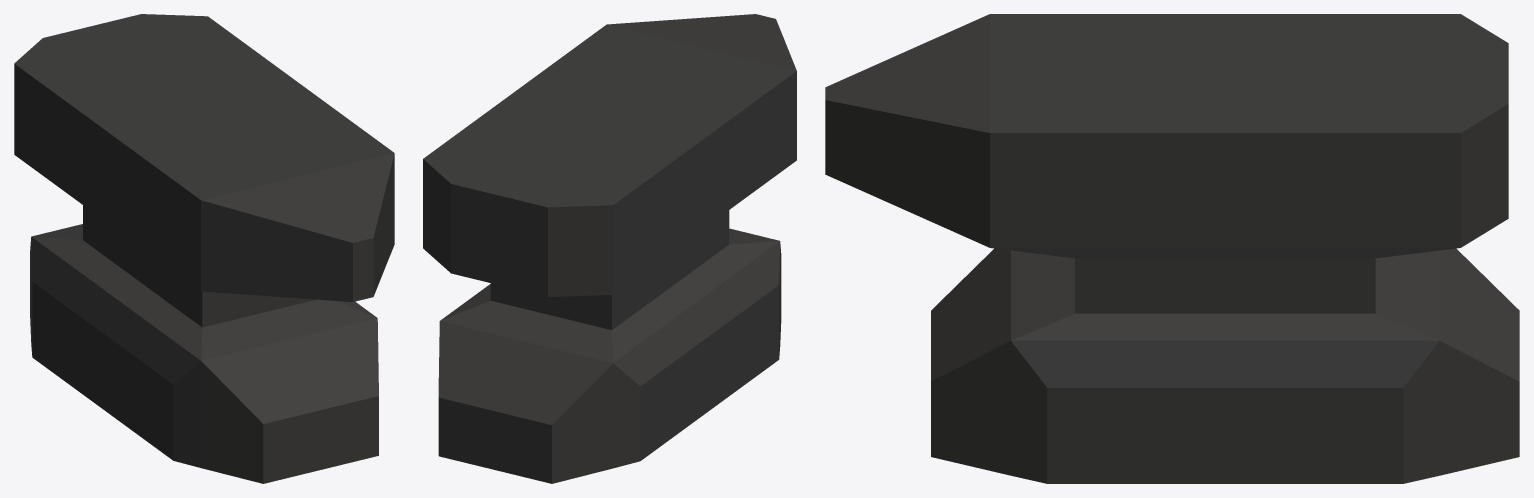
File: anvile.fbx
3 views of the same model, side by side, from view 1: azimuth 30°, elevation 25°; view 2: azimuth 150°, elevation 25°; view 3: azimuth 270°, elevation 25° (orthographic). The views are drawn at different scales.
Visible parts, largest first — view 1: Cube.004; view 2: Cube.004; view 3: Cube.004.
Boxes of the visible parts, x1,y1,x2,y2 form: Cube.004: [14, 14, 394, 483]; Cube.004: [423, 14, 796, 483]; Cube.004: [825, 14, 1519, 483].
Bounding box in the file's own units: 230 × 299 × 541.
